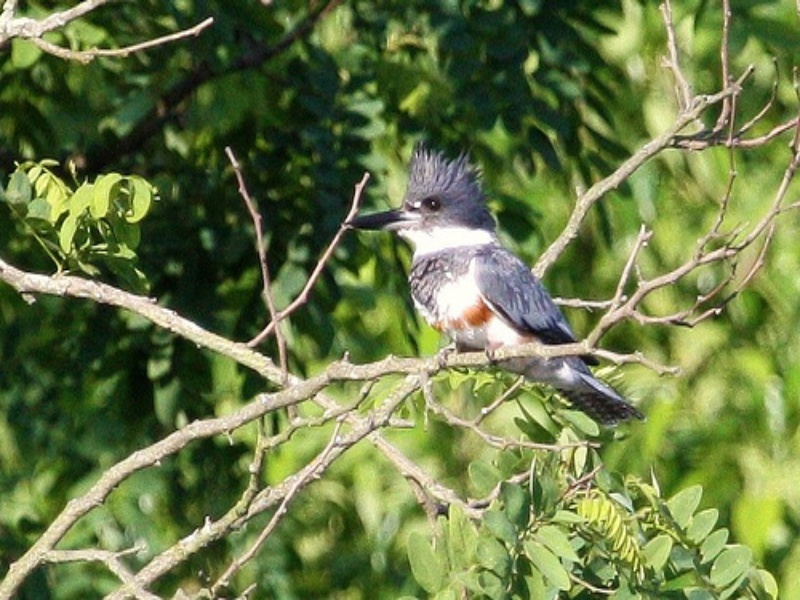kingfisher: (345, 143, 653, 430)
